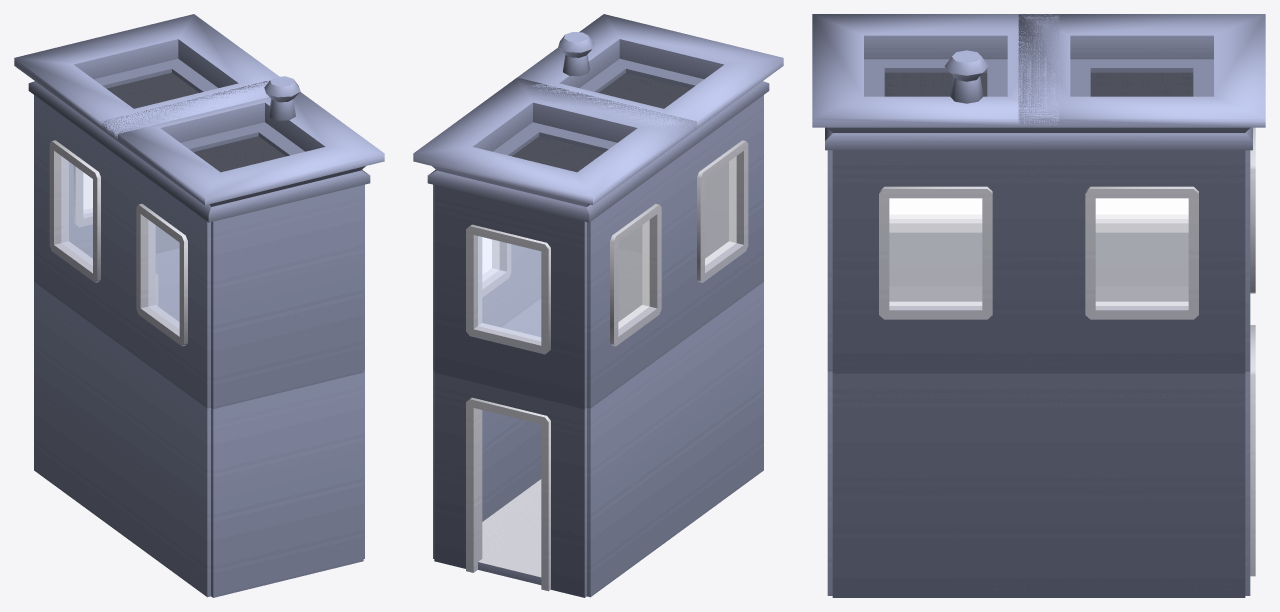
File: robotics-workshop.glb
3 renders of one model, left to right at view 1: azimuth 30°, elevation 25°; view 2: azimuth 150°, elevation 25°; view 3: azimuth 270°, elevation 25°, orthographic. The views are drawn at different scales.
Visible parts, largest first — view 1: wall (×4), roof-flat-square (×2), wall-window-square (×3), (%ignore) (×2), wall-doorway-square, detail-pipe; view 2: wall-window-square (×5), wall (×6), roof-flat-square (×2), wall-doorway-square, (%ignore) (×4), floor, detail-pipe; view 3: wall (×6), wall-window-square (×5), roof-flat-square (×2), (%ignore) (×4), wall-doorway-square, detail-pipe.
Part boxes in pixels (<box>): wall (×4): <box>34,185,363,597</box>; roof-flat-square (×2): <box>14,14,384,222</box>; wall-window-square (×3): <box>34,95,210,408</box>; (%ignore) (×2): <box>61,156,179,329</box>; wall-doorway-square: <box>155,248,179,321</box>; detail-pipe: <box>264,76,300,120</box>; wall-window-square (×5): <box>433,95,763,409</box>; wall (×6): <box>433,162,763,597</box>; roof-flat-square (×2): <box>413,14,783,222</box>; wall-doorway-square: <box>434,372,586,597</box>; (%ignore) (×4): <box>478,156,736,341</box>; floor: <box>478,489,541,584</box>; detail-pipe: <box>558,32,594,76</box>; wall (×6): <box>827,150,1245,597</box>; wall-window-square (×5): <box>832,127,1255,373</box>; roof-flat-square (×2): <box>812,14,1265,150</box>; (%ignore) (×4): <box>889,198,1188,305</box>; wall-doorway-square: <box>1245,325,1255,595</box>; detail-pipe: <box>944,50,988,103</box>.
Bounding box in the file's own units: 2.39 × 5.63 × 4.39.
Materials: 2 (1 with a texture image).
